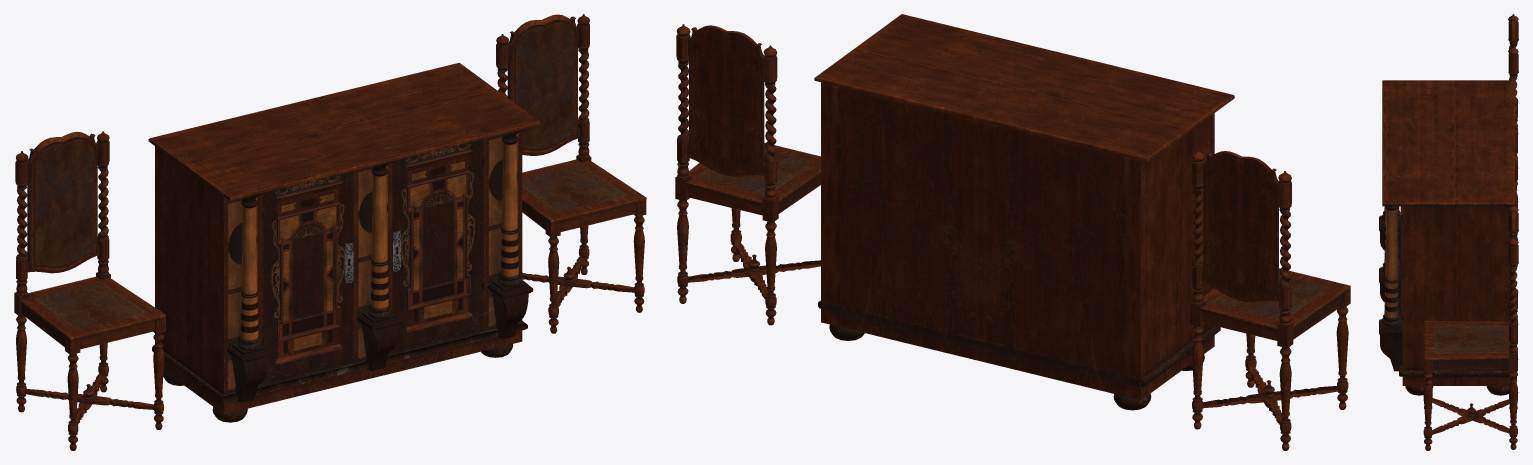
Rendered from antique_furniture.glb.
The picture shows the model from 3 angles, left to right: view 1: azimuth 30°, elevation 25°; view 2: azimuth 150°, elevation 25°; view 3: azimuth 270°, elevation 25°; orthographic projection. The views are drawn at different scales.
Parts seen in each view (by area): view 1: BOBY_LP, UP_LP, BACK_LP, BACK_LP1, SEAT_LP, COLUMN_LP, SEAT_LP1, DOOR_FURNITURE, COLUMN_DOWN_LP2, LARGE_LP1, LARGE_LP3, COLUMN_DOWN_LP (+7 smaller); view 2: BOBY_LP, UP_LP, BACK_LP, BACK_LP1, LARGE_LP1, LARGE_LP3, SEAT_LP, SEAT_LP1, MEDIUM_LP, MEDIUM_LP1, LARGE_LP, JUMPERS_LP (+4 smaller); view 3: UP_LP, BOBY_LP, SEAT_LP1, LARGE_LP3, COLUMN_LP, MEDIUM_LP1, COLUMN_DOWN_LP, LARGE_LP2, LEG_LP, JUMPERS_LP2, COLUMN_DOWN_LP2, JUMPERS_LP3 (+6 smaller).
Part boxes in pixels (box(x1,y1,x2,y2)): BOBY_LP: box(155, 131, 522, 414); UP_LP: box(148, 62, 541, 403); BACK_LP: box(27, 131, 99, 273); BACK_LP1: box(507, 14, 579, 155); SEAT_LP: box(20, 276, 166, 340); COLUMN_LP: box(237, 132, 522, 350); SEAT_LP1: box(522, 159, 646, 222); DOOR_FURNITURE: box(275, 149, 472, 364); COLUMN_DOWN_LP2: box(357, 160, 403, 370); LARGE_LP1: box(15, 162, 155, 412); LARGE_LP3: box(496, 45, 635, 274); COLUMN_DOWN_LP: box(230, 291, 528, 402); BOBY_LP: box(821, 82, 1214, 400); UP_LP: box(814, 14, 1234, 387); BACK_LP: box(1201, 151, 1278, 302); BACK_LP1: box(687, 25, 764, 176); LARGE_LP1: box(1191, 183, 1343, 450); LARGE_LP3: box(676, 57, 820, 325); SEAT_LP: box(1201, 268, 1350, 328); SEAT_LP1: box(686, 142, 820, 203); MEDIUM_LP: box(1190, 160, 1350, 397); MEDIUM_LP1: box(675, 35, 778, 271); LARGE_LP: box(1245, 306, 1348, 409); JUMPERS_LP: box(1203, 386, 1339, 408); UP_LP: box(1382, 80, 1514, 376); BOBY_LP: box(1402, 206, 1511, 385); SEAT_LP1: box(1424, 320, 1509, 360); LARGE_LP3: box(1433, 230, 1518, 449); COLUMN_LP: box(1382, 206, 1401, 326); MEDIUM_LP1: box(1424, 212, 1518, 416); COLUMN_DOWN_LP: box(1380, 231, 1402, 371); LARGE_LP2: box(1423, 340, 1432, 450); LEG_LP: box(1379, 214, 1509, 395); JUMPERS_LP2: box(1432, 399, 1509, 434); COLUMN_DOWN_LP2: box(1379, 208, 1400, 314); JUMPERS_LP3: box(1432, 398, 1508, 433).
Bounding box in the file's own units: 290 × 127 × 74.77.
2 materials, 2 textured.
